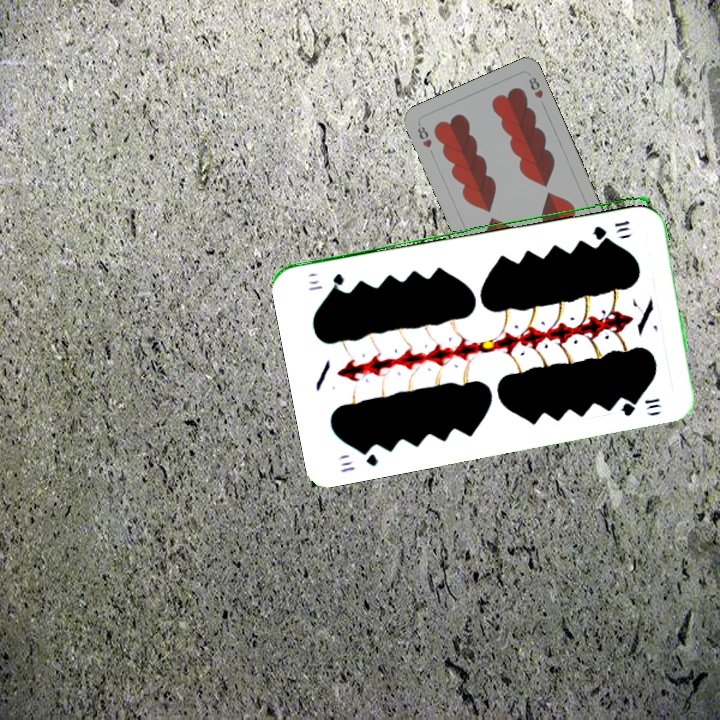G10: (336, 443, 380, 476), (589, 216, 632, 239)
H8: (413, 120, 434, 150)
